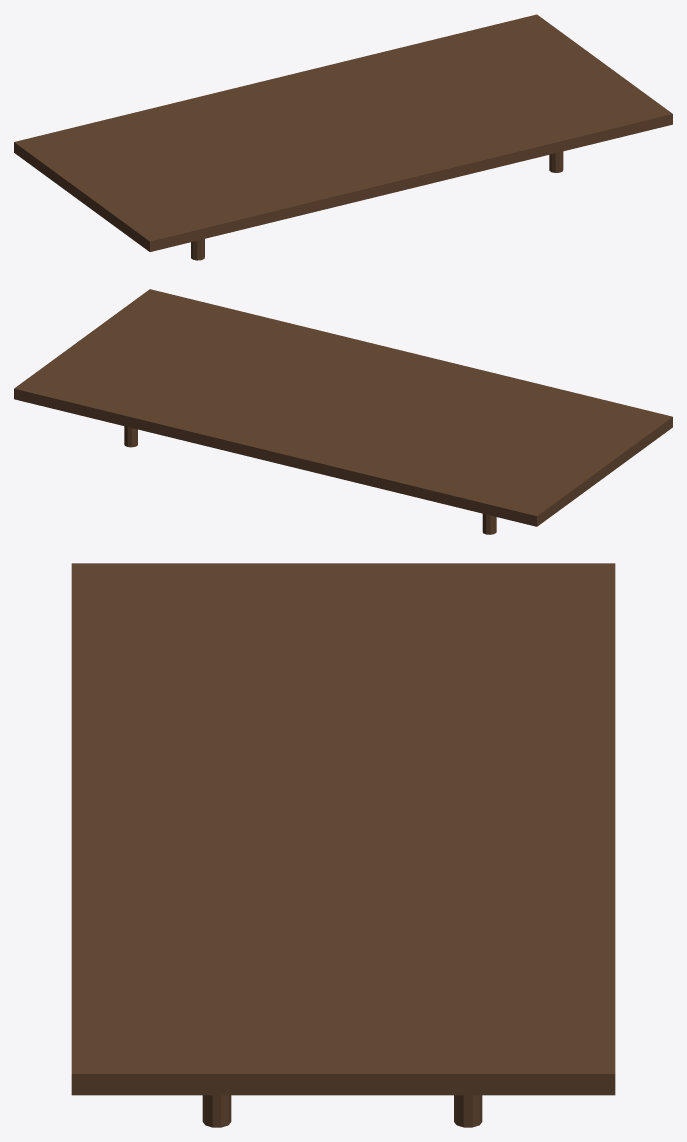
File: table.fbx
3 views of the same model, one above another, from view 1: azimuth 30°, elevation 25°; view 2: azimuth 150°, elevation 25°; view 3: azimuth 270°, elevation 25° (orthographic). The views are drawn at different scales.
Parts seen in each view (by area): view 1: Cube; view 2: Cube; view 3: Cube.
Part boxes in pixels (x1=…): Cube: x1=14, y1=14, x2=672, y2=260; Cube: x1=14, y1=289, x2=672, y2=534; Cube: x1=71, y1=563, x2=615, y2=1127.
Bounding box in the file's own units: 620 × 71.56 × 279.
